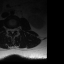CCS_normal: (11, 26, 13, 35)
LFS_normal: (15, 25, 18, 32)
LLS_normal: (13, 26, 15, 33)
RFS_normal: (7, 26, 9, 32)
RLS_normal: (9, 26, 11, 33)
